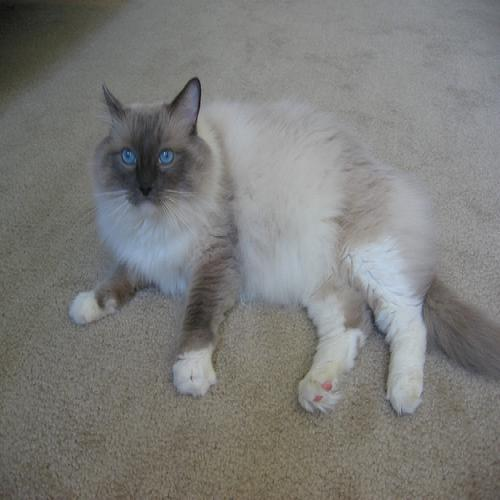ragdoll: (92, 65, 212, 230)
